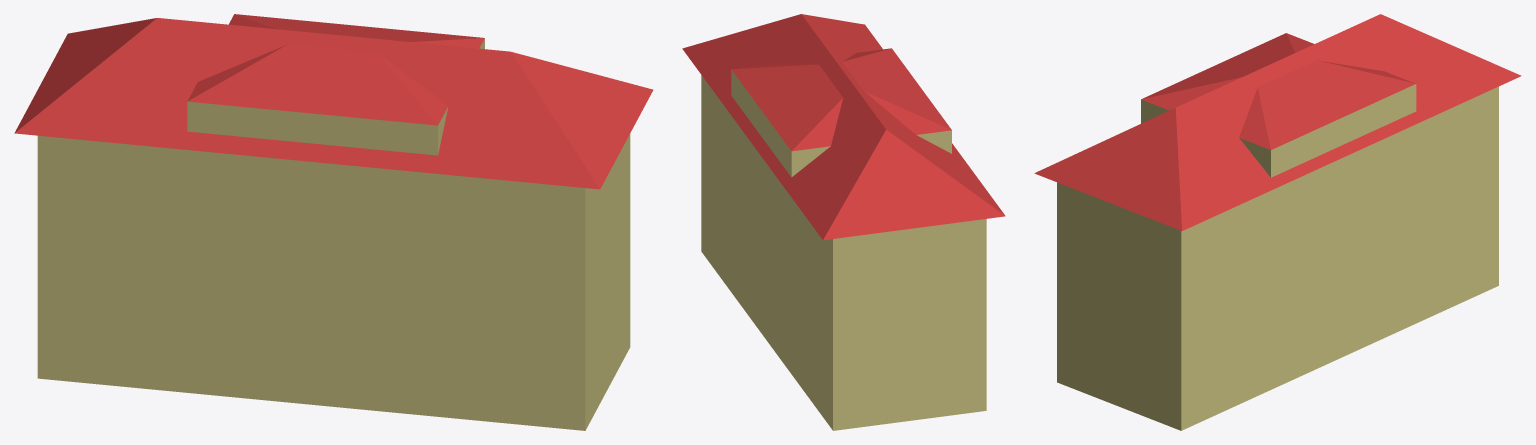
3 views of the same model, side by side, from view 1: azimuth 30°, elevation 25°; view 2: azimuth 150°, elevation 25°; view 3: azimuth 270°, elevation 25° (orthographic). The views are drawn at different scales.
Visible parts, largest first — view 1: group_7, group_3, group_4, group_5, group_6; view 2: group_7, group_3, group_4, group_5, group_6; view 3: group_7, group_3, group_4, group_5, group_6.
Boxes of the visible parts, left/top/right/bottom form: group_7: left=37, top=134, right=630, bottom=430; group_3: left=14, top=18, right=653, bottom=189; group_4: left=187, top=14, right=484, bottom=125; group_5: left=187, top=38, right=484, bottom=155; group_6: left=15, top=31, right=652, bottom=188; group_7: left=701, top=75, right=986, bottom=430; group_3: left=682, top=14, right=1005, bottom=240; group_4: left=731, top=48, right=951, bottom=151; group_5: left=731, top=70, right=951, bottom=177; group_6: left=789, top=23, right=1004, bottom=239; group_7: left=1057, top=86, right=1498, bottom=430; group_3: left=1034, top=14, right=1521, bottom=230; group_4: left=1141, top=33, right=1415, bottom=149; group_5: left=1141, top=84, right=1416, bottom=177; group_6: left=1037, top=66, right=1520, bottom=230.
Size of the model in its own units: 31 by 29.98 by 18.53.
